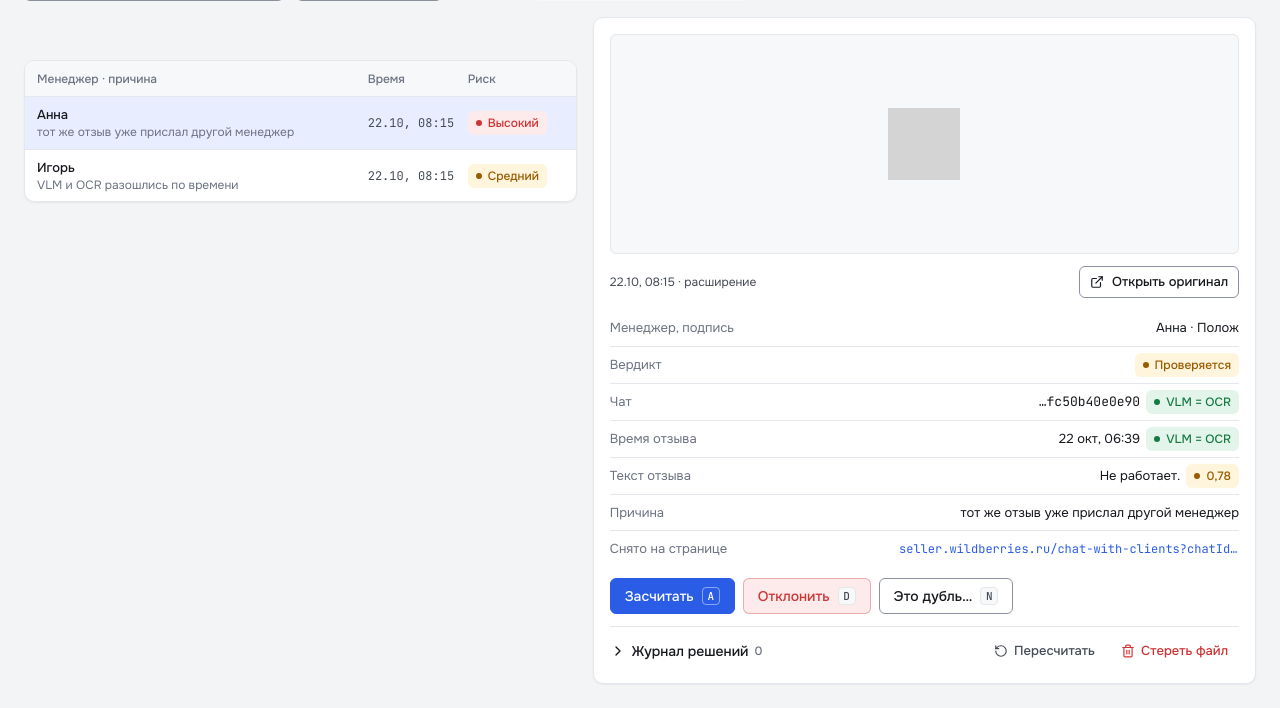
Test: ScreenshotsPage › reprocesses only after confirmation and moves on
(page scrolled)
Check: the element named "Скриншот Анна" is shown, box [593,17,1256,684]
Click the button "Пересчитать" at (1044, 651), box [983,635,1106,667]
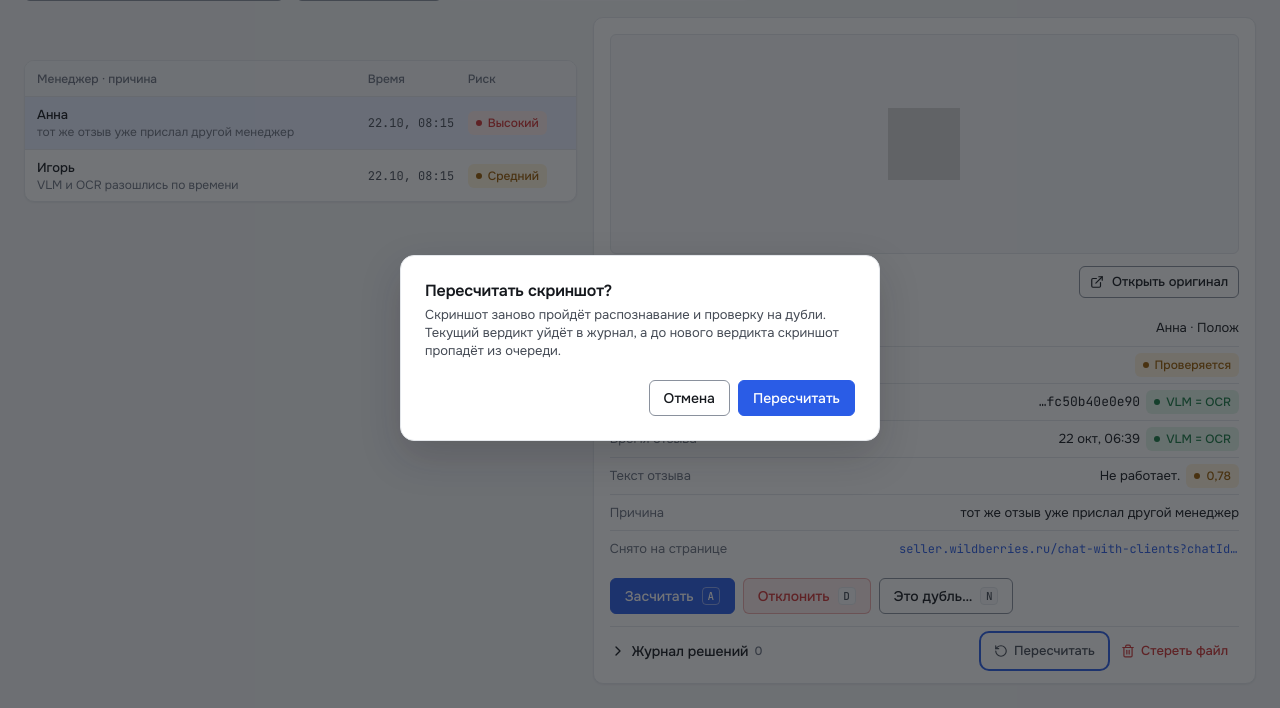
Check: the dialog shows "Пересчитать скриншот?", box [425,280,612,301]
// Клавиши очереди при открытом подтверждении не работают.
Press ф
Click the button "Отмена" at (689, 398), box [648,380,730,416]
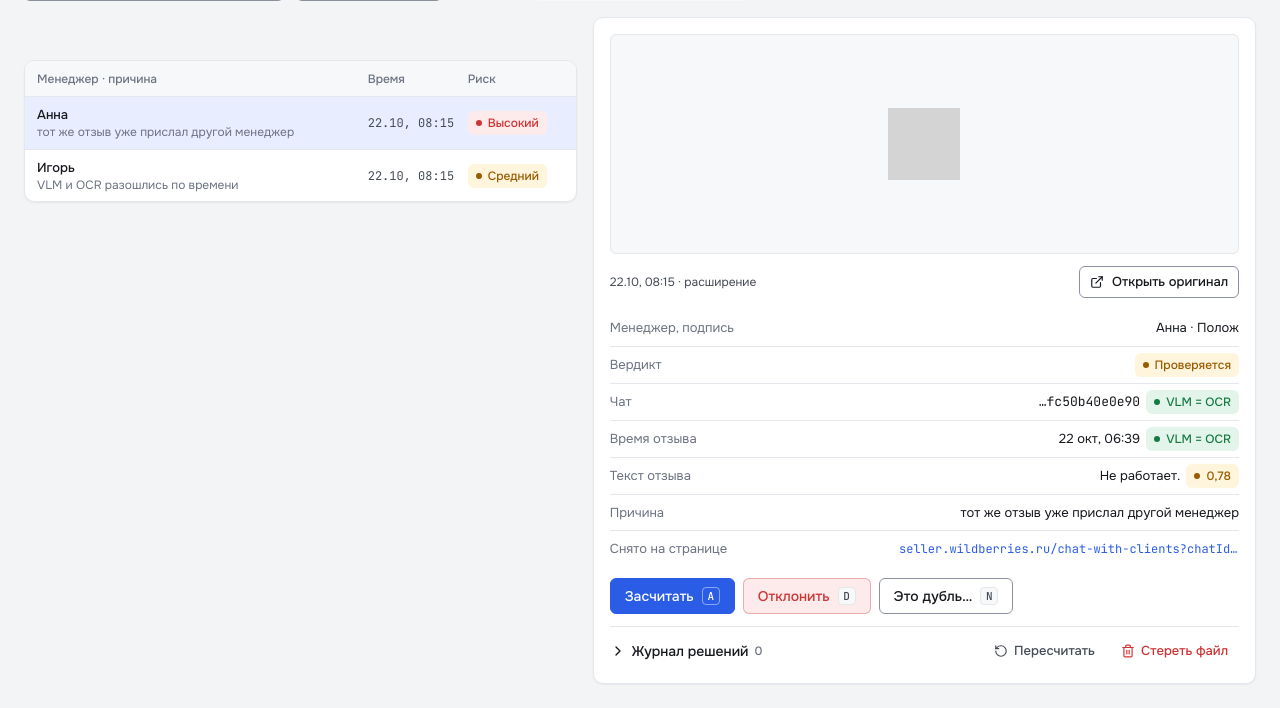
Click the button "Пересчитать" at (1044, 651), box [983,635,1106,667]
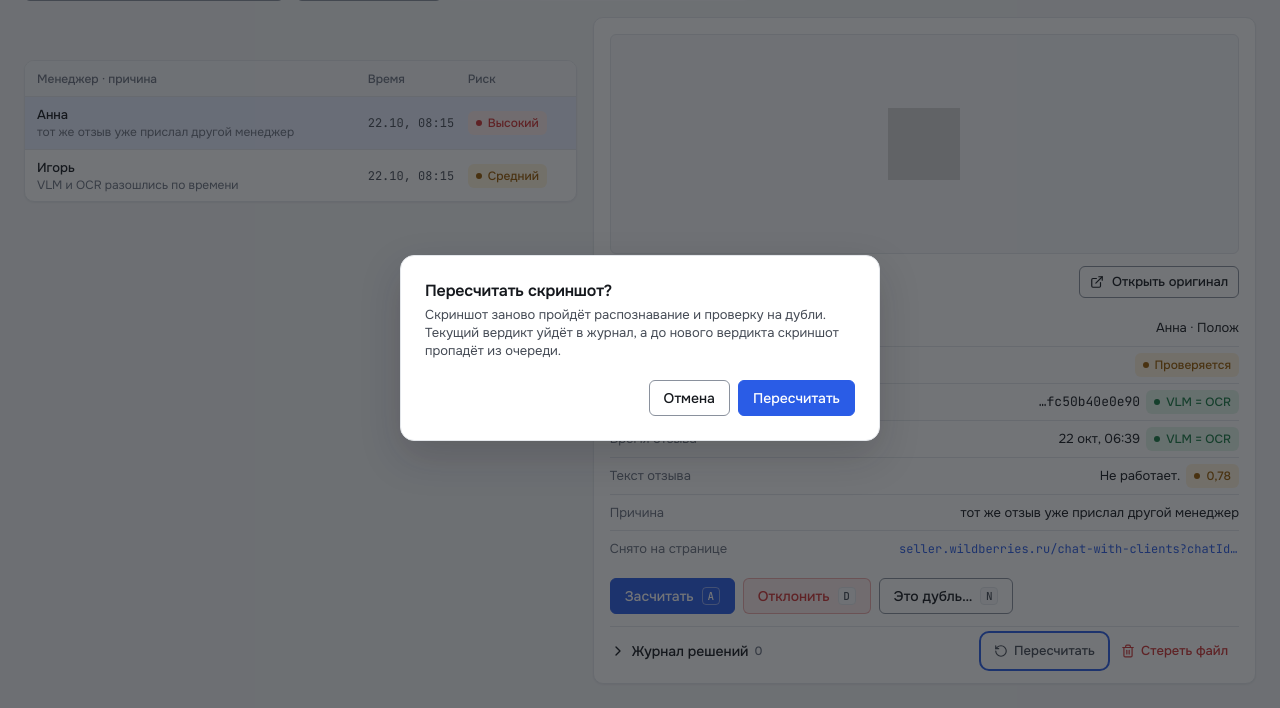
Click the button "Пересчитать" at (796, 398), box [738,380,855,416]
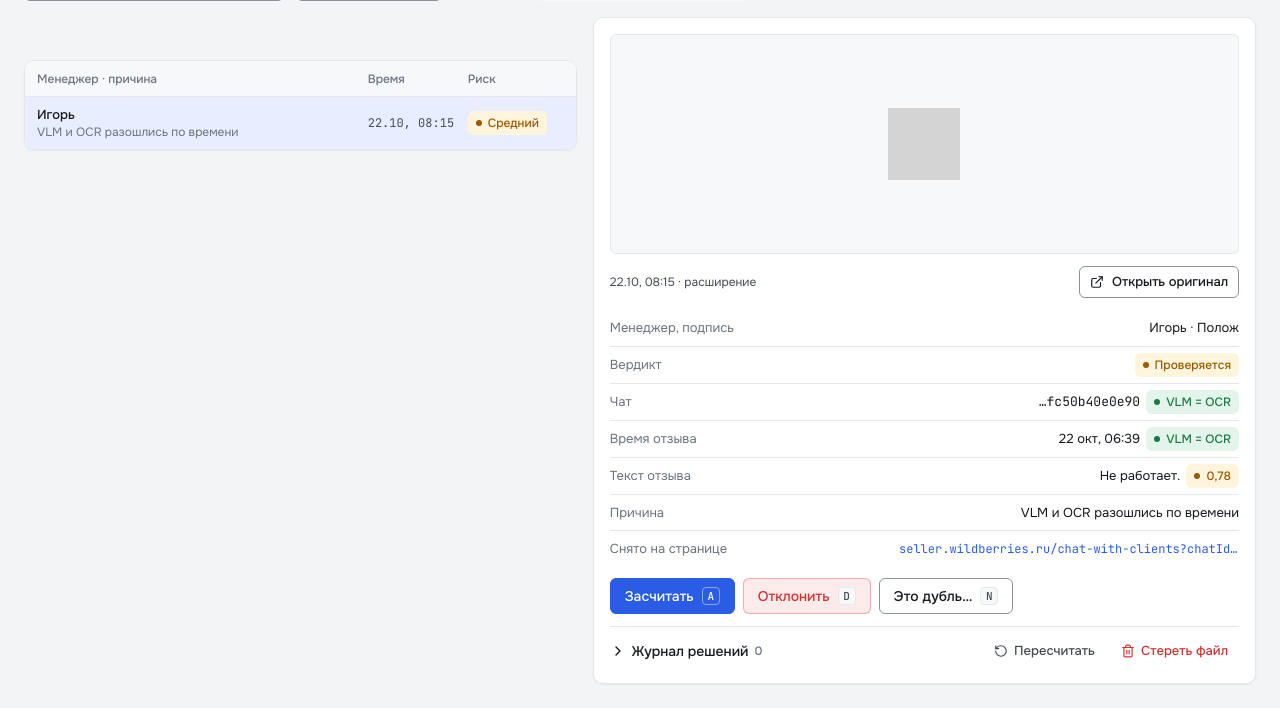
Check: the element named "Скриншот Игорь" is shown, box [593,17,1256,684]
